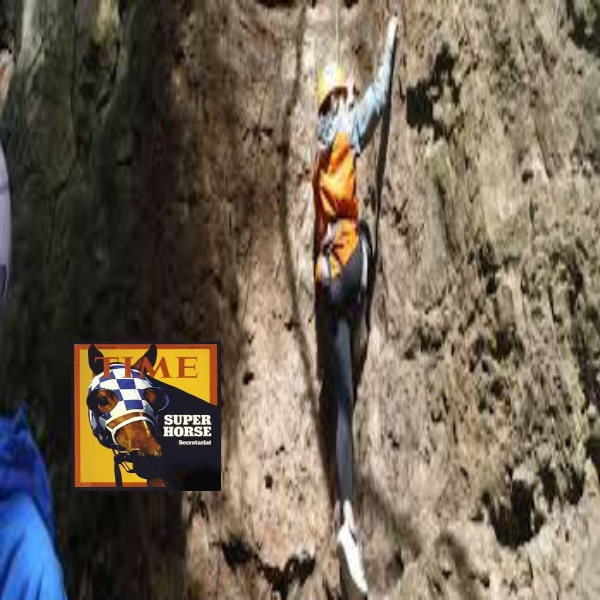time_cover: (67, 331, 228, 493)
